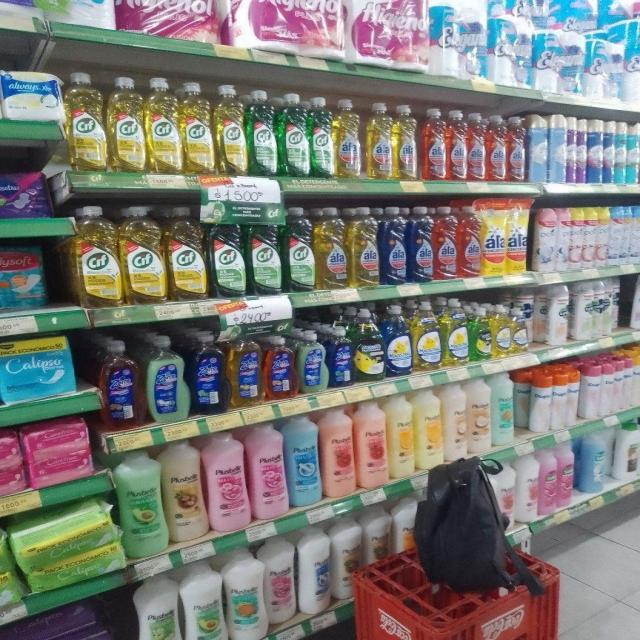ala_conc_amarillo: (316, 207, 348, 290), (349, 206, 379, 287), (334, 98, 364, 179), (365, 101, 393, 180), (394, 103, 419, 181)
ala_conc_azul: (380, 206, 407, 285), (408, 206, 433, 284)
ala_conc_rojo: (421, 108, 446, 181), (434, 206, 457, 280), (458, 204, 481, 278), (448, 110, 467, 182), (486, 114, 506, 182), (468, 112, 486, 182), (508, 116, 526, 182)
ala_sachet_amarillo: (506, 198, 530, 274), (482, 198, 505, 276)
cif_conc_bot_amarilla: (73, 204, 120, 308), (122, 205, 165, 304), (67, 71, 106, 172), (166, 205, 206, 301), (108, 75, 144, 173), (146, 76, 180, 175), (182, 81, 214, 175), (214, 84, 247, 175)
cif_conc_botella_verde: (209, 209, 246, 298), (248, 210, 282, 295), (247, 88, 278, 177), (284, 206, 314, 292), (279, 92, 309, 177), (310, 95, 334, 178)
magistral_con_amarillo: (412, 300, 440, 372), (442, 298, 468, 368), (492, 304, 511, 358), (511, 305, 528, 354)
magistral_con_azul: (385, 304, 411, 377)
zorro: (145, 334, 188, 422), (190, 332, 226, 414), (228, 335, 262, 407), (264, 335, 295, 400), (297, 329, 327, 394)
